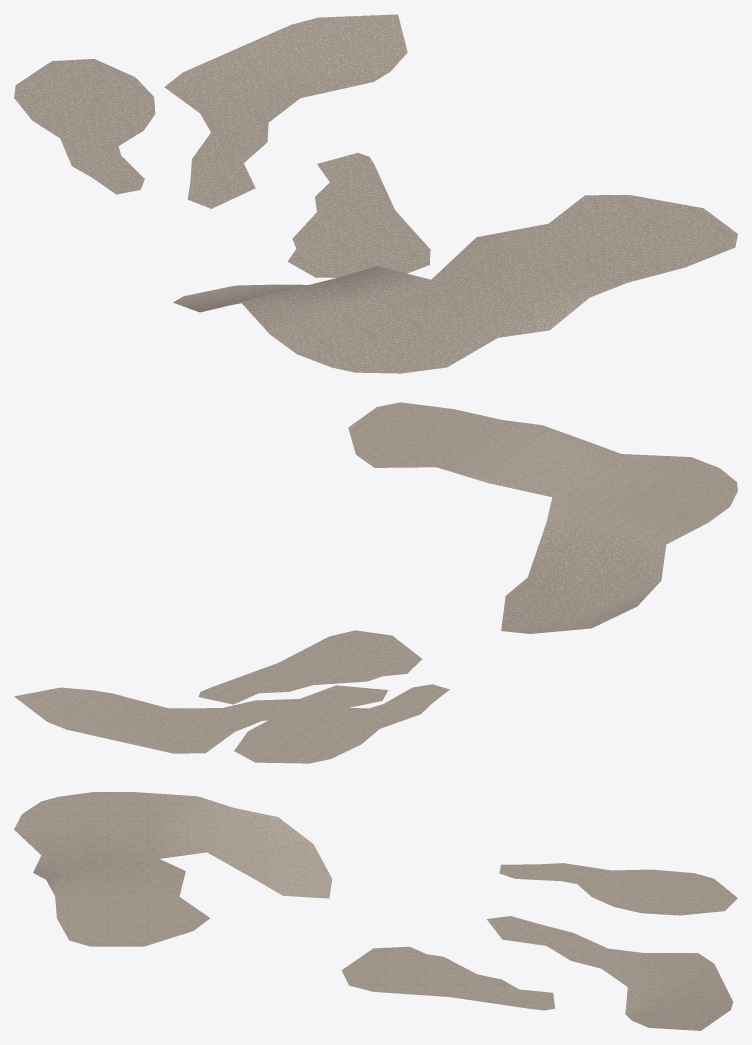
The model's file is kd_stage_13612f_2_5.glb.
3 renders of one model, top to bottom at view 1: azimuth 30°, elevation 25°; view 2: azimuth 150°, elevation 25°; view 3: azimuth 270°, elevation 25°, orthographic. The views are drawn at different scales.
Visible parts, largest first — view 1: kd_stage_13612f_2_5; view 2: kd_stage_13612f_2_5; view 3: kd_stage_13612f_2_5.
Part boxes in pixels (x1,y1,x2,y2): kd_stage_13612f_2_5: (14, 14, 737, 373); kd_stage_13612f_2_5: (14, 402, 737, 763); kd_stage_13612f_2_5: (14, 792, 737, 1030).
Bounding box in the file's own units: 46.02 × 10.5 × 74.59.
1 material, 1 textured.
